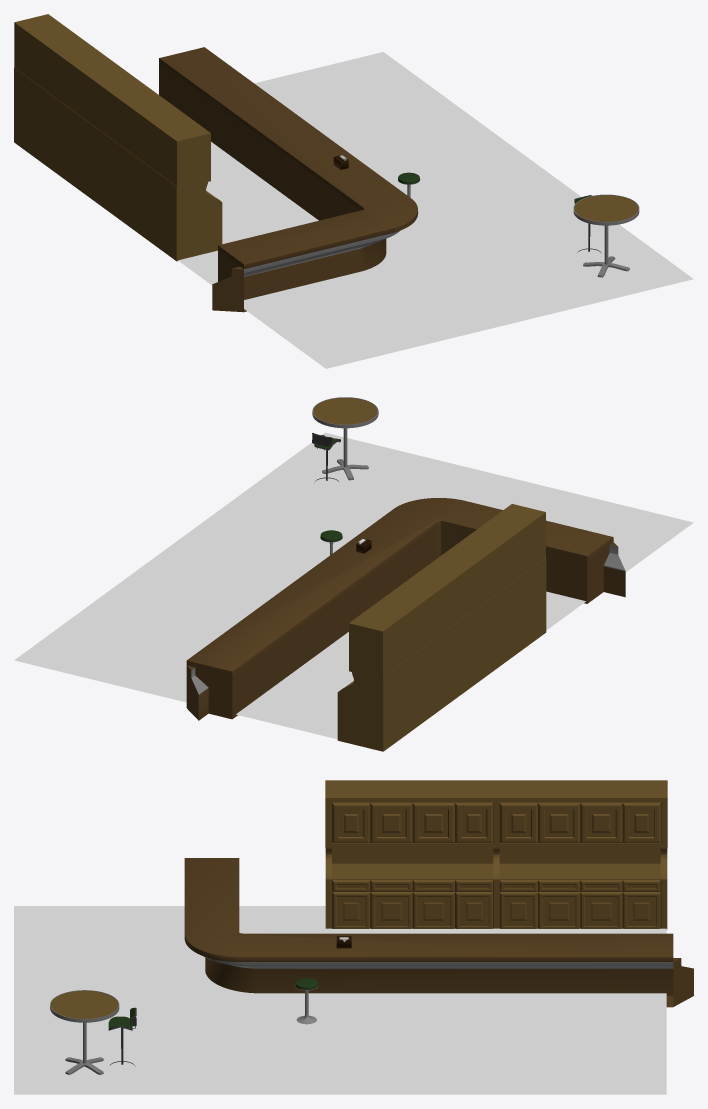
Rendered from Bar_Fight.fbx.
The picture shows the model from 3 angles, top to bottom: view 1: azimuth 30°, elevation 25°; view 2: azimuth 150°, elevation 25°; view 3: azimuth 270°, elevation 25°; orthographic projection. The views are drawn at different scales.
Visible parts, largest first — view 1: floor, bar_cabinets, counter, table; view 2: floor, bar_cabinets, counter, table; view 3: floor, bar_cabinets, counter, table, table_chair, bar_chair.
Part boxes in pixels (x1,y1,x2,y2): floor: (178,52,693,368); bar_cabinets: (14,14,222,261); counter: (159,47,417,312); table: (573,194,639,277); floor: (14,432,693,739); bar_cabinets: (337,504,546,751); counter: (186,498,625,720); table: (312,397,378,480); floor: (14,906,666,1094); bar_cabinets: (325,780,667,929); counter: (184,858,693,1007); table: (50,990,119,1074); table_chair: (108,1007,136,1066); bar_chair: (295,978,318,1024).
Size of the model in its own units: 218 by 64.82 by 313.
